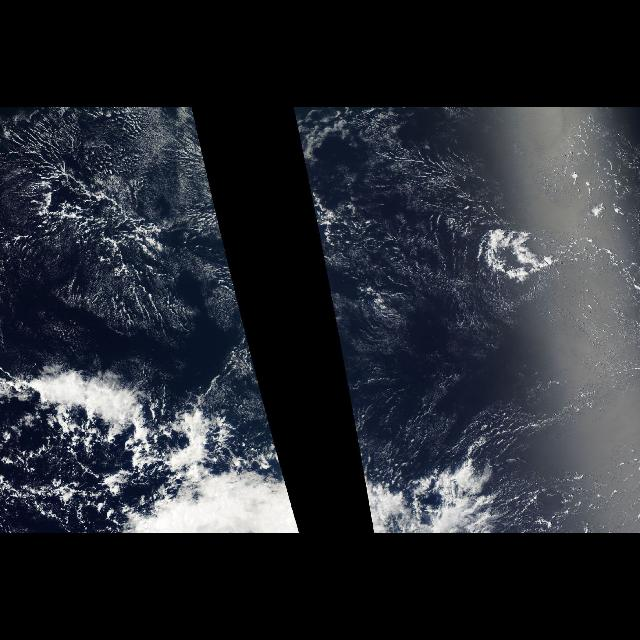Fish: (15, 367, 209, 468)
Sugar: (9, 114, 253, 356), (294, 114, 484, 356)
